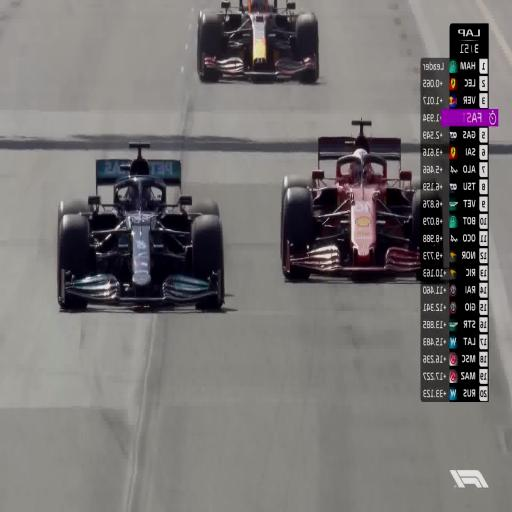f1_car: (57, 142, 224, 309), (281, 120, 422, 278), (197, 0, 319, 82), (439, 241, 442, 253), (441, 237, 442, 239)
